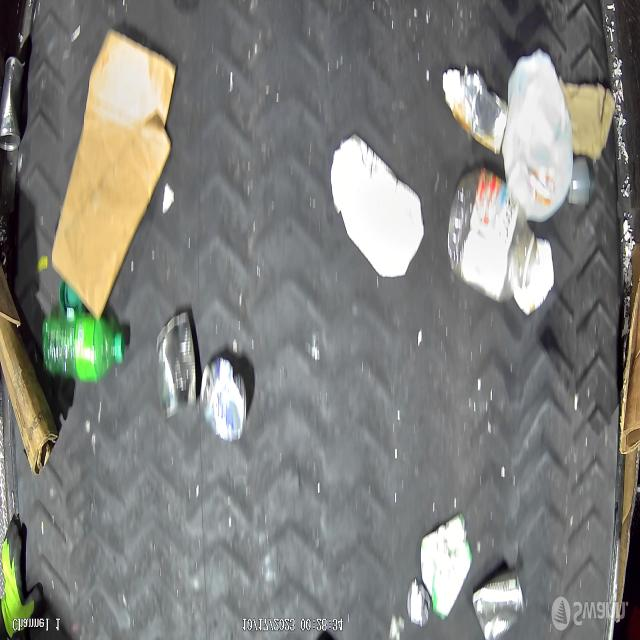can: (155, 310, 199, 419), (202, 358, 248, 443), (473, 569, 526, 640), (0, 56, 26, 152), (406, 576, 431, 628)
milk_jug: (332, 136, 424, 278), (506, 48, 575, 225)
